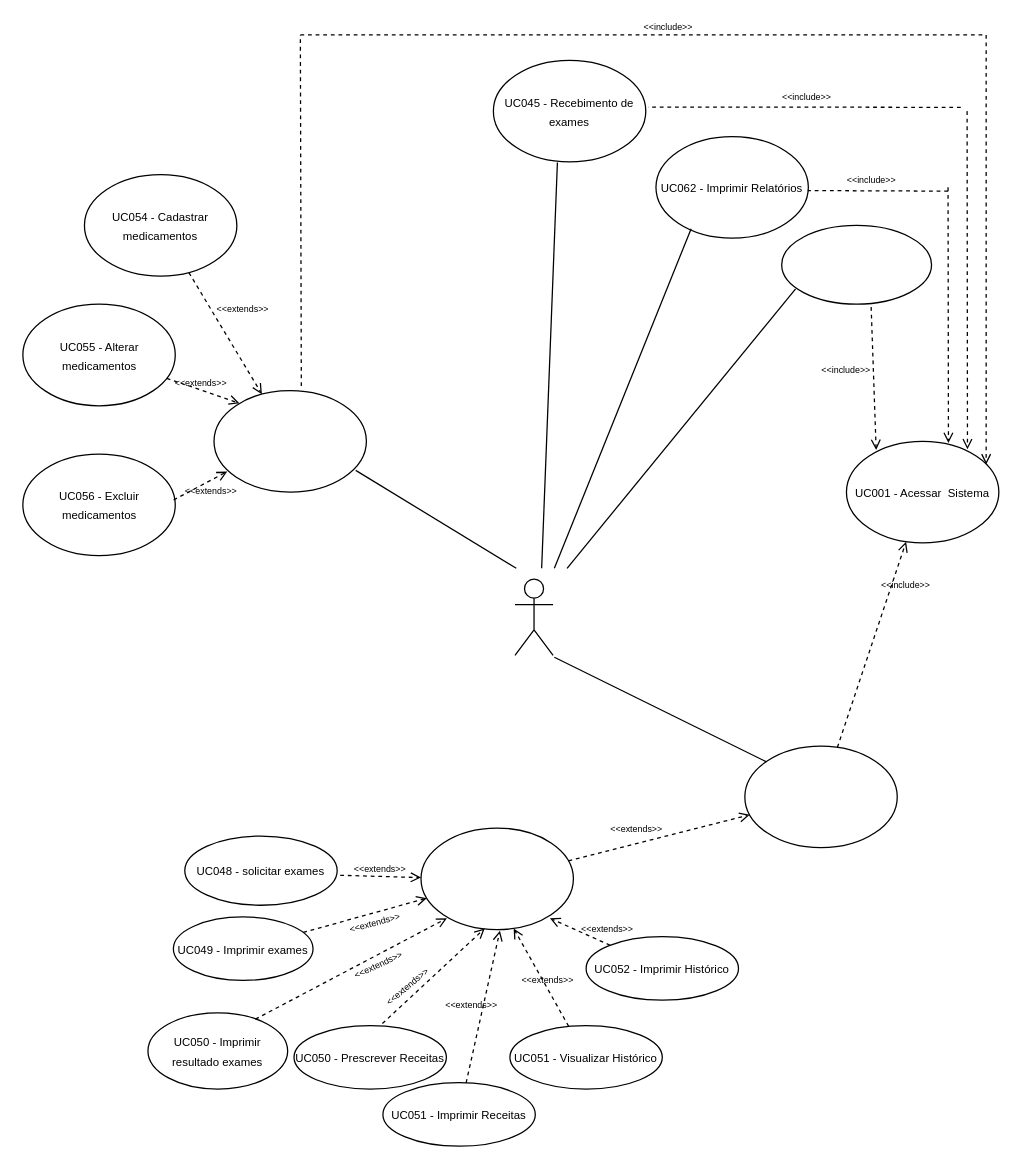
Image size: 1021x1168. Some labels were removed from this diagram. The box of each missing label's shape, as (x1, y1, x2, y2) in pixels:
Médico: (514, 578, 553, 655)
UC044 - Imprimir segunda via receitas: (780, 224, 932, 304)
UC046 - Visualizar Iniciar consulta: (744, 745, 897, 848)
UC047 - Iniciar Consulta: (420, 827, 573, 930)
UC053 - Visualizar medicamentos: (213, 389, 366, 492)
